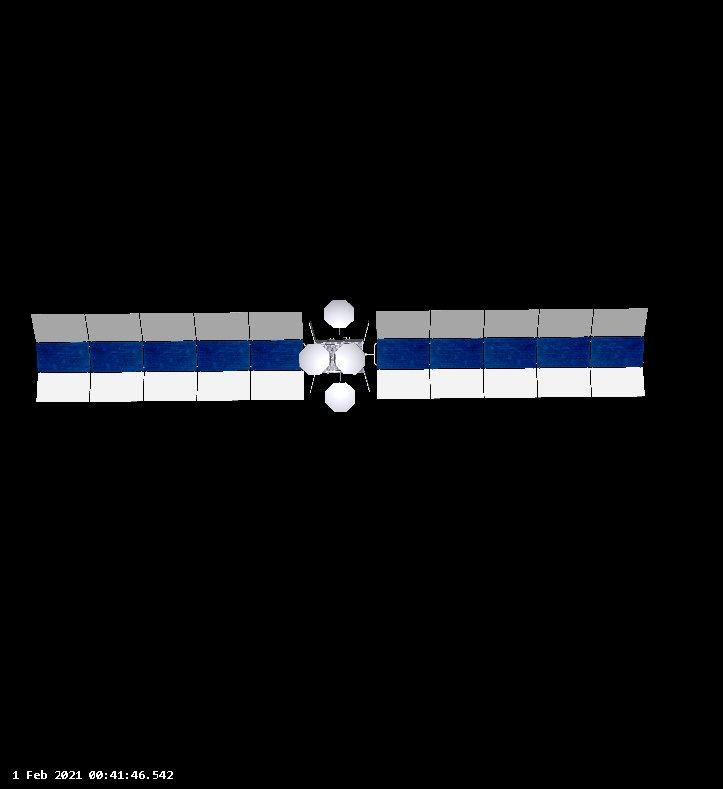antenna: (298, 342, 331, 377), (333, 343, 368, 376), (322, 297, 356, 330), (323, 381, 357, 414)
body: (312, 335, 367, 376)
solar: (374, 305, 653, 404), (28, 310, 306, 403)
